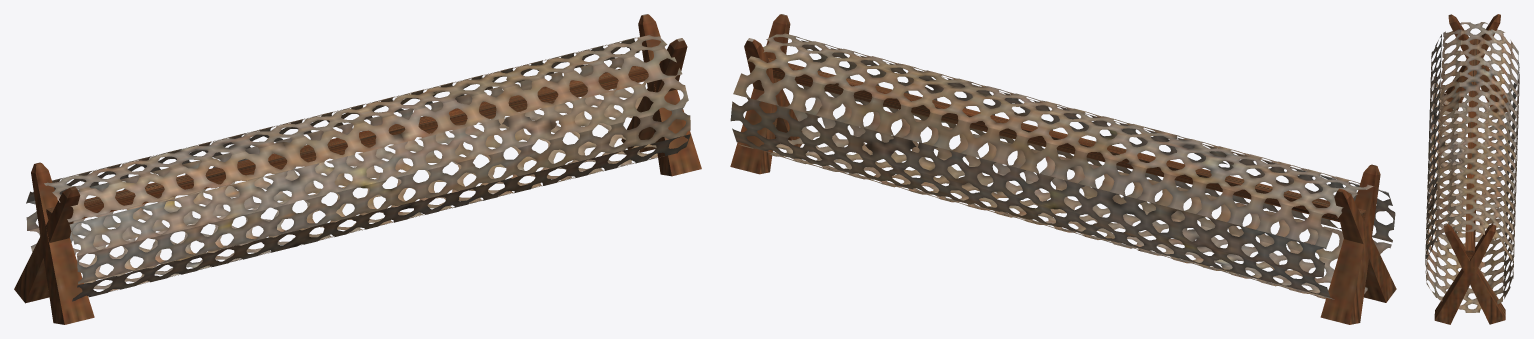
File: wall_01.dae
3 renders of one model, left to right at view 1: azimuth 30°, elevation 25°; view 2: azimuth 150°, elevation 25°; view 3: azimuth 270°, elevation 25°, orthographic. The views are drawn at different scales.
Visible parts, largest first — view 1: wall; view 2: wall; view 3: wall.
Boxes of the visible parts, <box> form: wall: <box>14,14,701,324</box>; wall: <box>730,14,1396,324</box>; wall: <box>1425,14,1519,324</box>.
Bounding box in the file's own units: 28.77 × 5.18 × 5.95.
